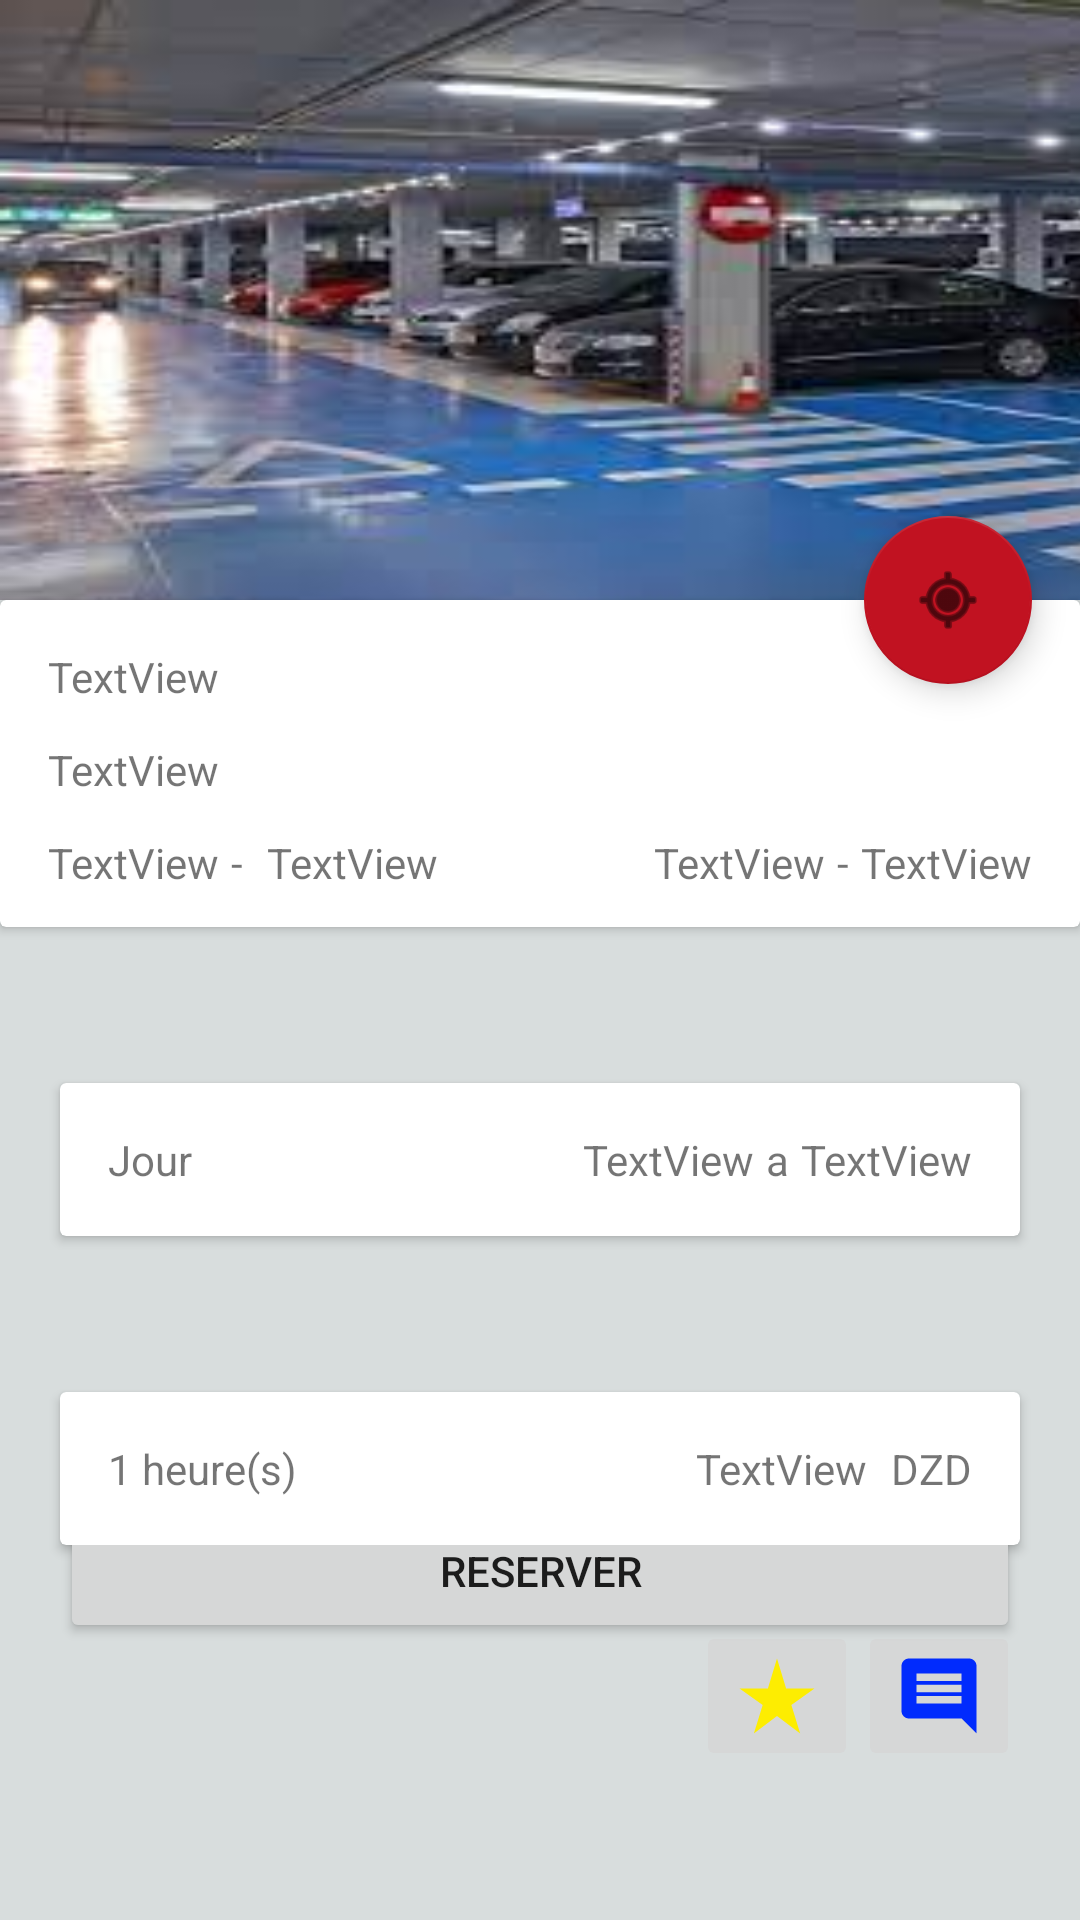

Point at icon controls on the screen. Image size 1080x1920, points as (x=x, y=y).
insert comment: (x=939, y=1695)
mylocation: (x=948, y=600)
star rate: (x=777, y=1696)
